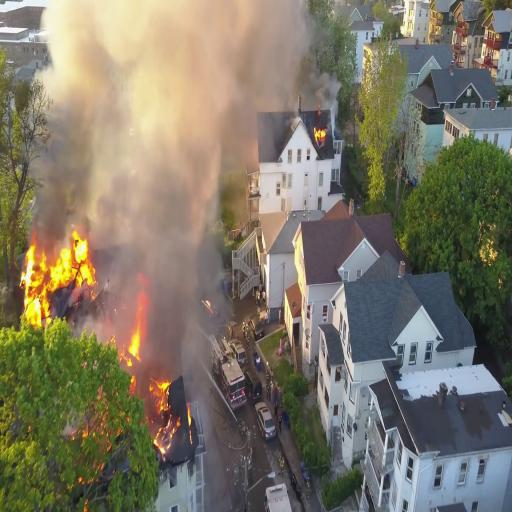fire: (23, 230, 91, 320), (157, 380, 180, 450), (127, 300, 147, 365)
smoke: (74, 0, 194, 220)
